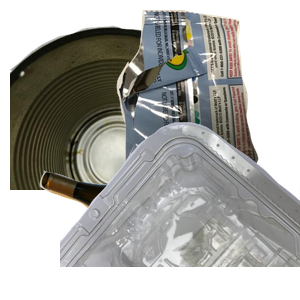glass: (37, 168, 242, 300)
metal: (10, 23, 250, 203)
plastic: (60, 120, 300, 300)
trash: (114, 10, 300, 180)
